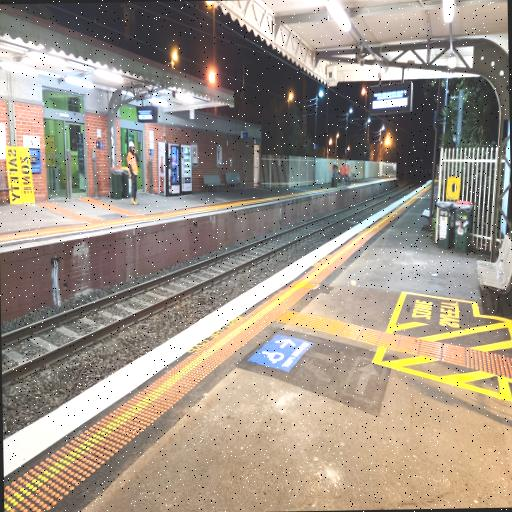platform_edge: (3, 179, 434, 512), (0, 176, 386, 252)
signage: (245, 332, 312, 373)
